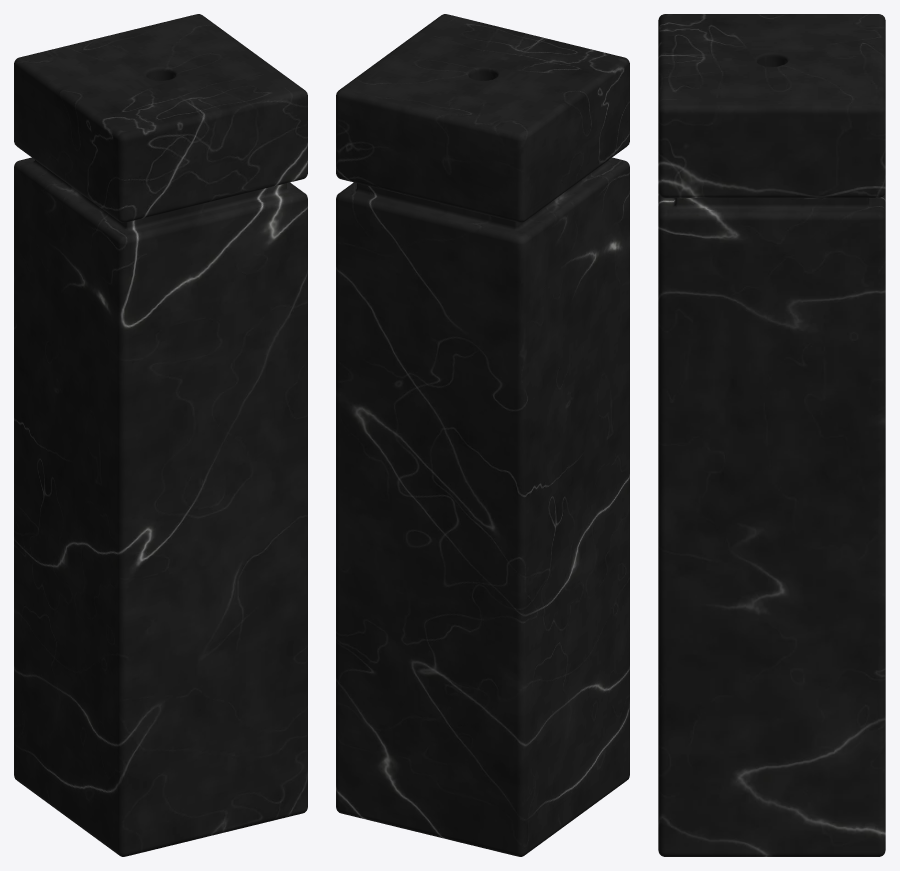
File: queen-black.glb
The picture shows the model from 3 angles, left to right: view 1: azimuth 30°, elevation 25°; view 2: azimuth 150°, elevation 25°; view 3: azimuth 270°, elevation 25°; orthographic projection. The views are drawn at different scales.
Visible parts, largest first — view 1: dama_cerny; view 2: dama_cerny; view 3: dama_cerny.
Boxes of the visible parts, x1,y1,x2,y2 form: dama_cerny: (14,14,307,856); dama_cerny: (336,14,629,856); dama_cerny: (658,14,885,856).
Bounding box in the file's own units: 0.4329 × 1.58 × 0.4329.
Materials: 1 (1 with a texture image).
